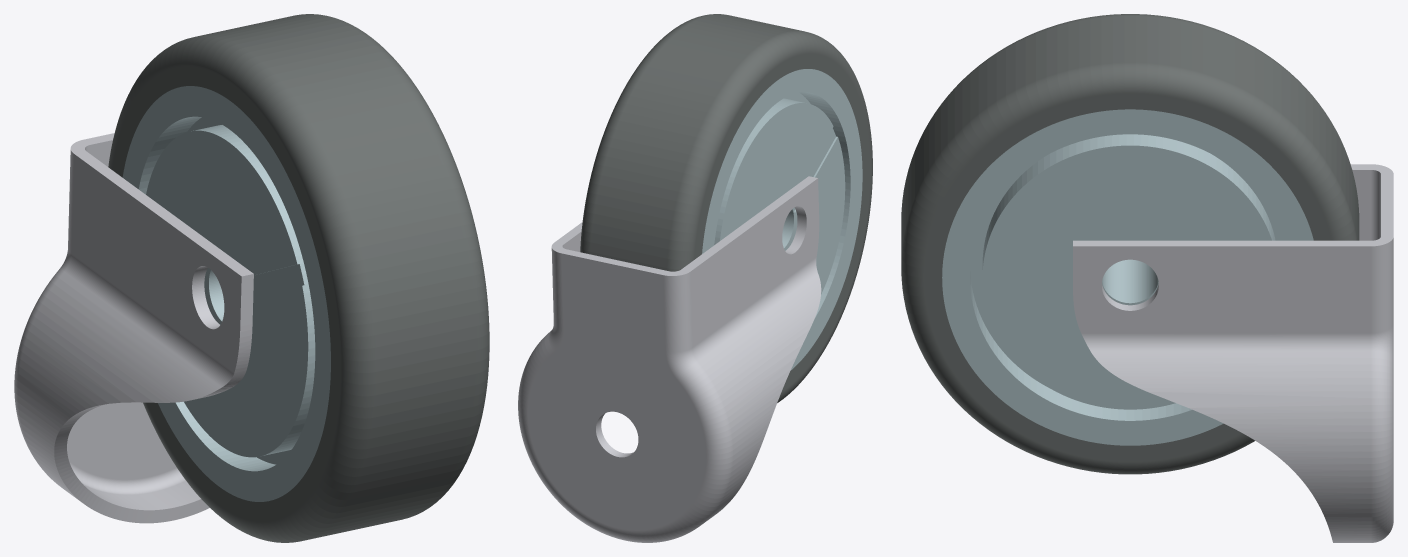
File: caster_wheel.dae
3 views of the same model, side by side, from view 1: azimuth 30°, elevation 25°; view 2: azimuth 150°, elevation 25°; view 3: azimuth 270°, elevation 25° (orthographic). The views are drawn at different scales.
Visible parts, largest first — view 1: node0, node2, node1; view 2: node2, node0, node1; view 3: node1, node2, node0.
Boxes of the visible parts, x1=… form: node0: x1=108, y1=14, x2=489, y2=542; node2: x1=14, y1=133, x2=253, y2=523; node1: x1=122, y1=86, x2=330, y2=501; node2: x1=518, y1=176, x2=821, y2=542; node0: x1=580, y1=14, x2=872, y2=402; node1: x1=702, y1=69, x2=862, y2=370; node1: x1=942, y1=109, x2=1313, y2=445; node2: x1=1073, y1=164, x2=1393, y2=542; node0: x1=901, y1=14, x2=1359, y2=474.
Size of the model in its own units: 0.0635 by 0.1092 by 0.1214.
